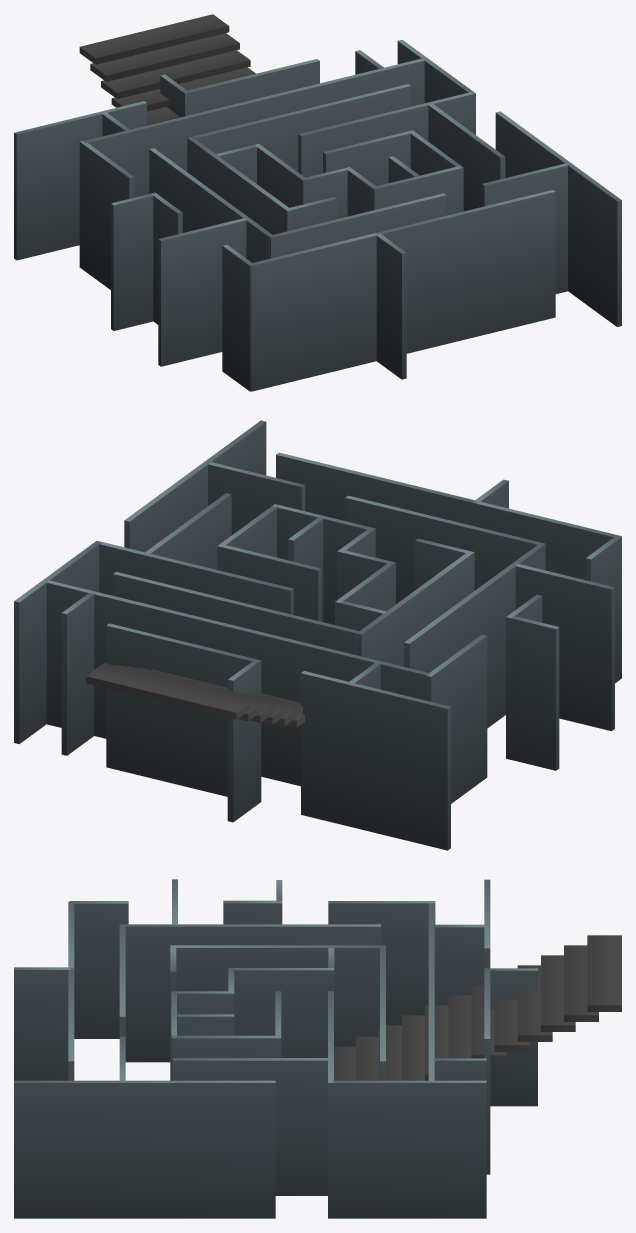
Rendered from labyrinth.fbx.
The picture shows the model from 3 angles, top to bottom: view 1: azimuth 30°, elevation 25°; view 2: azimuth 150°, elevation 25°; view 3: azimuth 270°, elevation 25°; orthographic projection. The views are drawn at different scales.
Visible parts, largest first — view 1: labyrinth, Stairs; view 2: labyrinth, Stairs; view 3: labyrinth, Stairs.
Boxes of the visible parts, x1,y1,x2,y2 form: labyrinth: (14, 39, 621, 391); Stairs: (79, 14, 255, 125); labyrinth: (14, 420, 621, 850); Stairs: (86, 663, 304, 727); labyrinth: (14, 879, 537, 1218); Stairs: (334, 935, 621, 1080).
Bounding box in the file's own units: 806 × 298 × 1017.
Materials: 2 (2 with a texture image).
